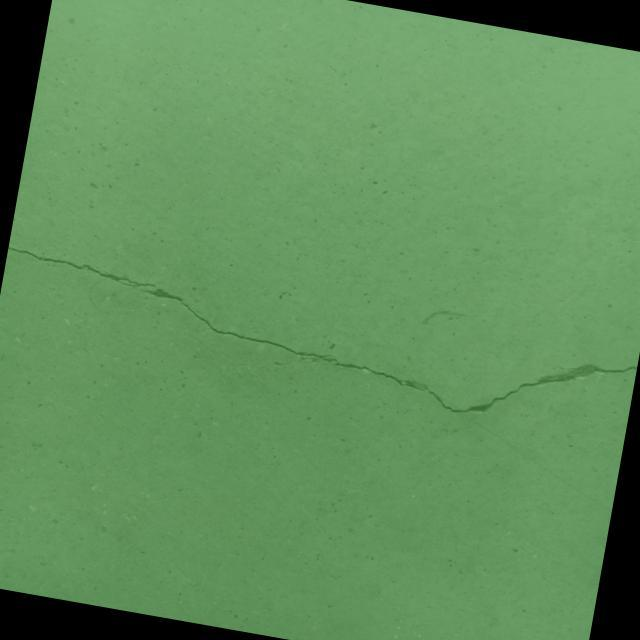crack: (0, 245, 638, 442)
